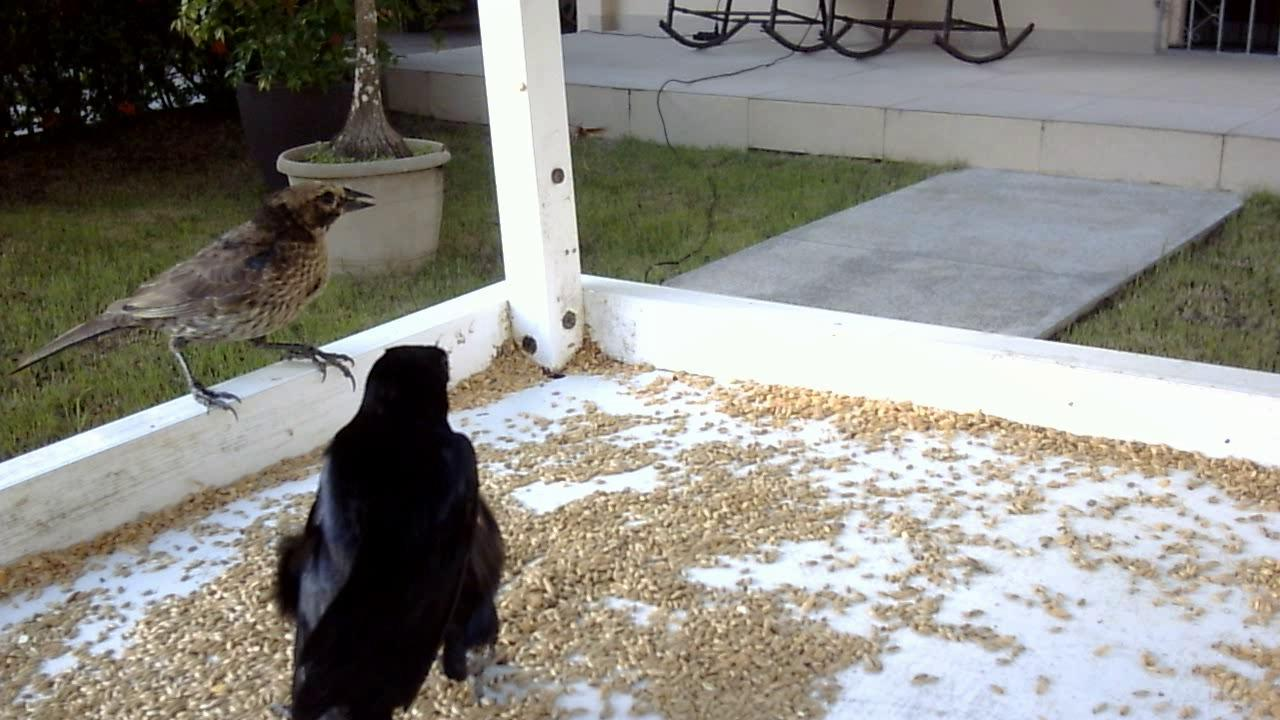chupim: (260, 332, 523, 712), (11, 176, 387, 436)
